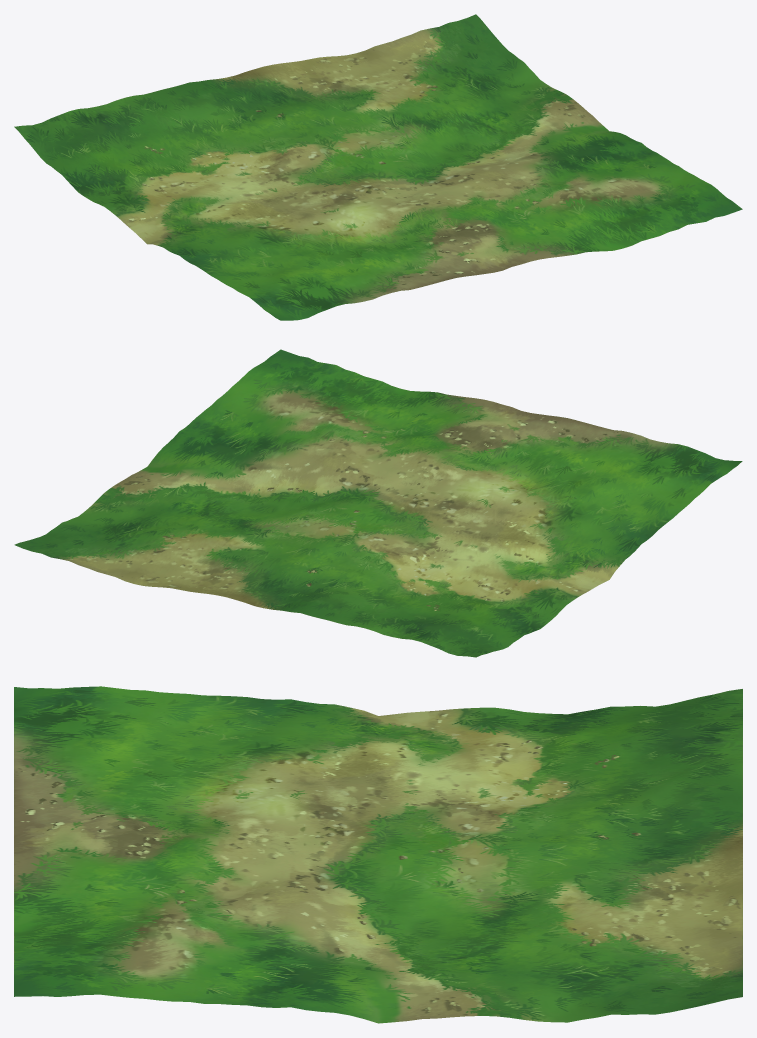
The model's file is ground.glb.
3 renders of one model, top to bottom at view 1: azimuth 30°, elevation 25°; view 2: azimuth 150°, elevation 25°; view 3: azimuth 270°, elevation 25°, orthographic. The views are drawn at different scales.
Visible parts, largest first — view 1: $dummy_node; view 2: $dummy_node; view 3: $dummy_node.
Part boxes in pixels (bbox=[...]): $dummy_node: bbox=[14, 14, 742, 320]; $dummy_node: bbox=[14, 349, 742, 657]; $dummy_node: bbox=[14, 686, 742, 1023].
Bounding box in the file's own units: 200 × 10.18 × 200.
Materials: 1 (1 with a texture image).
